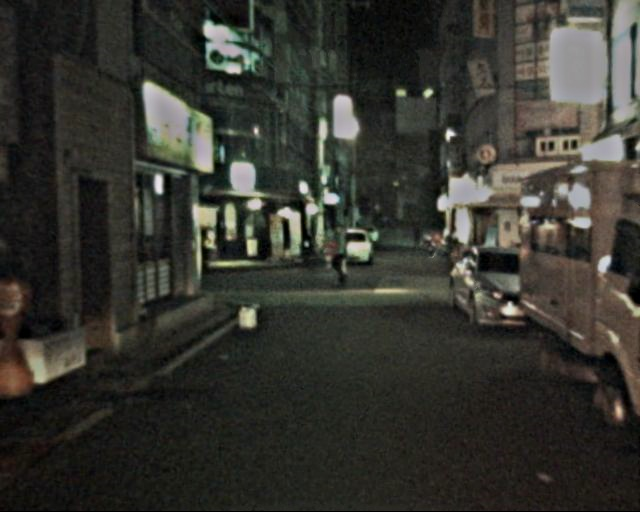person: (326, 224, 354, 292)
